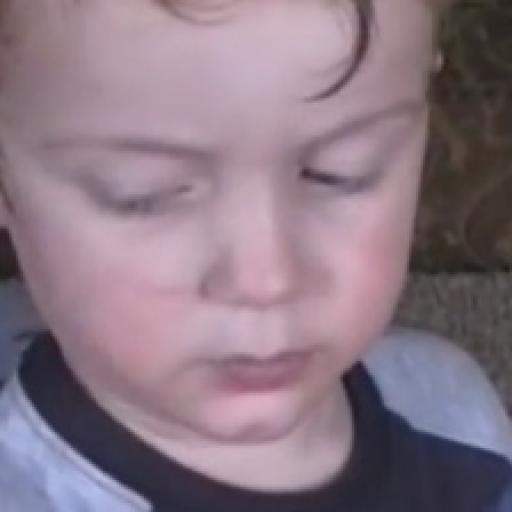Autism: (29, 4, 460, 494)
